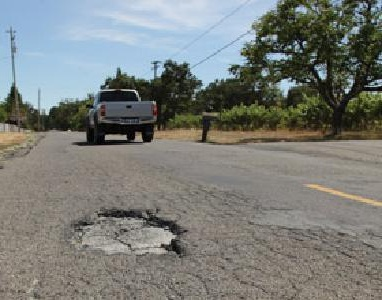pothole: (65, 205, 186, 260)
